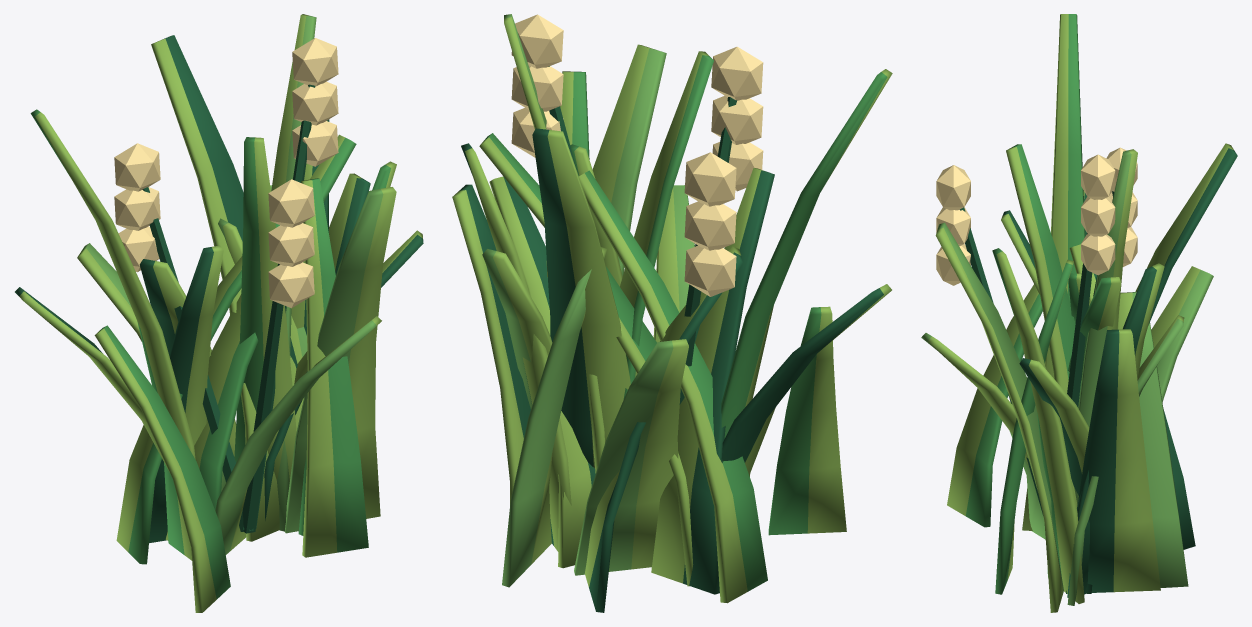
The model's file is grass_clump.glb.
3 views of the same model, side by side, from view 1: azimuth 30°, elevation 25°; view 2: azimuth 150°, elevation 25°; view 3: azimuth 270°, elevation 25° (orthographic). The views are drawn at different scales.
Parts seen in each view (by area): view 1: Layered grass blade 00.001; view 2: Layered grass blade 00.001; view 3: Layered grass blade 00.001.
Part boxes in pixels (<box>): Layered grass blade 00.001: <box>15,14,423,612</box>; Layered grass blade 00.001: <box>452,14,892,612</box>; Layered grass blade 00.001: <box>921,14,1237,612</box>.
Size of the model in its own units: 0.7067 by 0.8516 by 0.5457.
